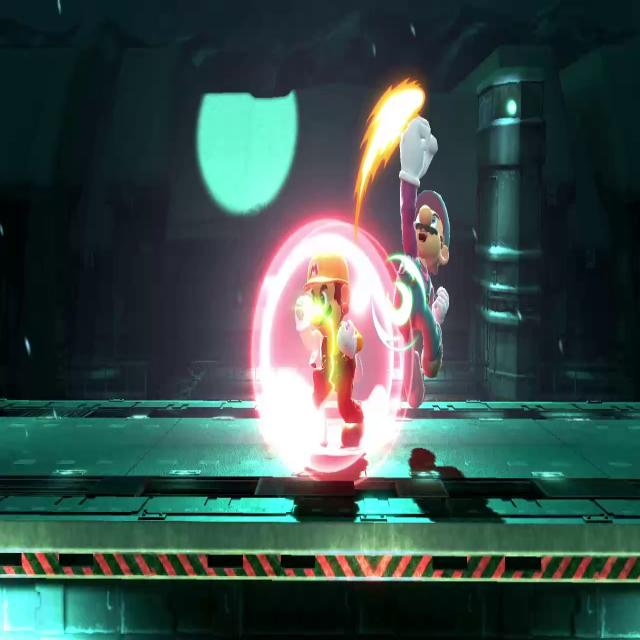Mario-UT: (386, 98, 454, 420)
Mario-guard: (293, 234, 369, 456)
